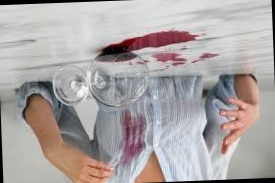wine: (112, 109, 150, 165)
